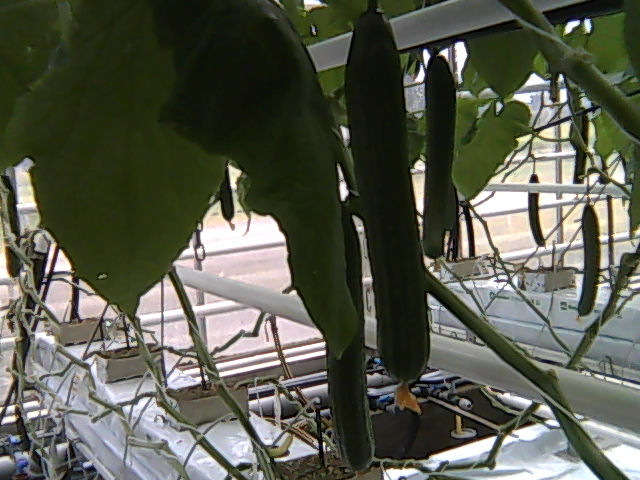concombre: (343, 1, 433, 414), (325, 207, 377, 474)
